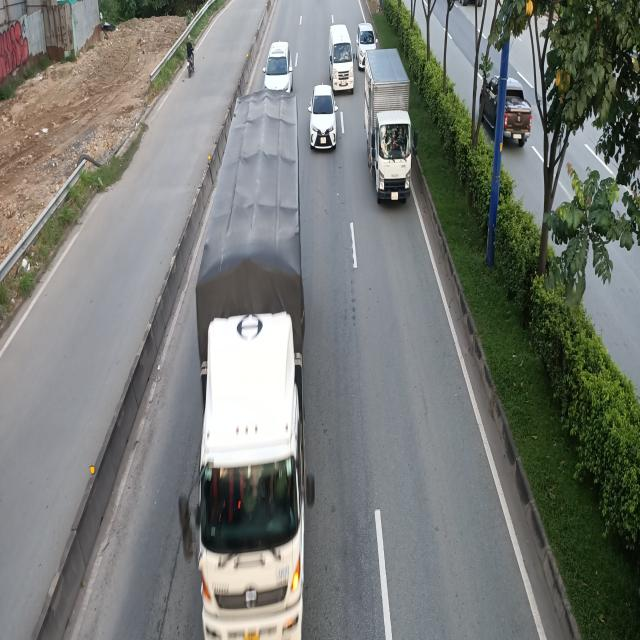car: (312, 85, 341, 153)
truck: (183, 89, 316, 640), (361, 50, 416, 209)
van: (330, 24, 354, 94)
